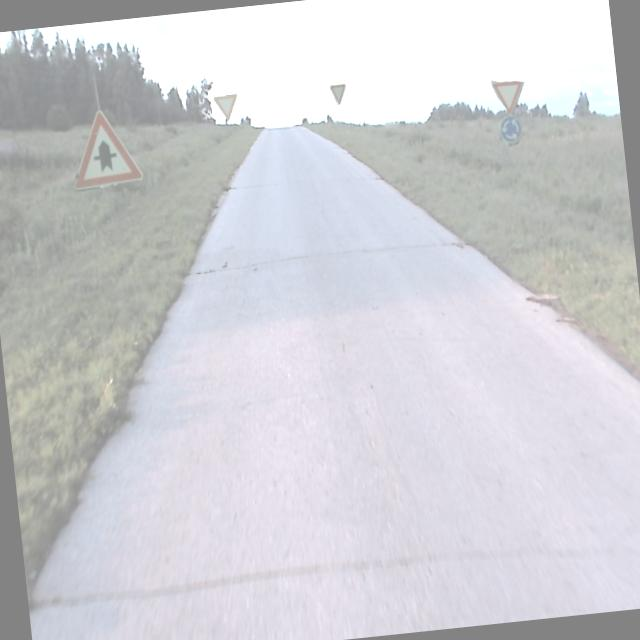road: (28, 126, 640, 640)
